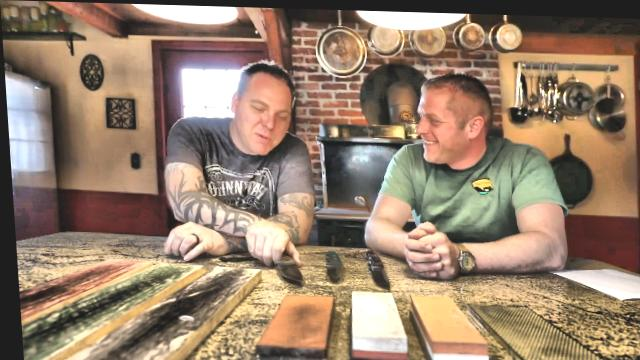knife: (244, 235, 307, 293)
